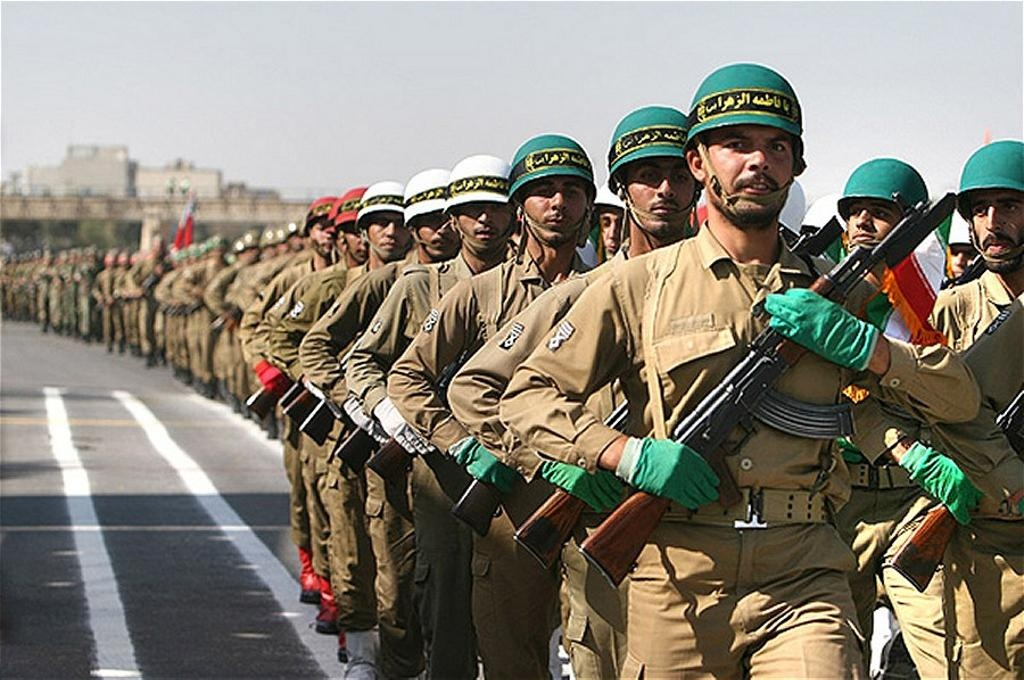human_face: (704, 110, 792, 218), (626, 147, 698, 233), (522, 163, 588, 244), (970, 185, 1024, 266), (849, 188, 901, 256), (456, 189, 510, 251), (413, 199, 465, 256), (366, 204, 410, 258), (343, 210, 381, 262), (947, 241, 987, 289), (598, 207, 636, 257), (309, 216, 345, 256), (289, 233, 303, 251)
